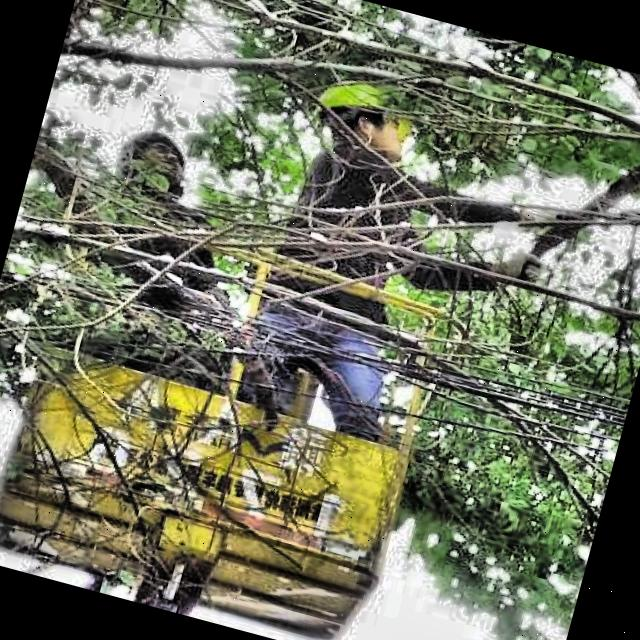helmet: (308, 67, 412, 158)
